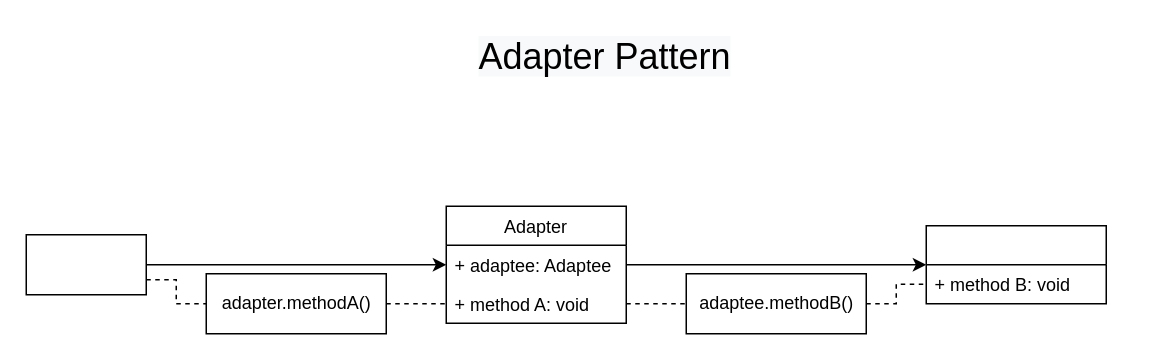
This 1172x360 diagram has some shape labels left out. The shapes that lost their labels are listed below. From the top down, each one's box as (x1, y1, x2, y2) in pixels, then its label:
(25, 233, 146, 295): Client
(925, 224, 1106, 304): Adaptee
